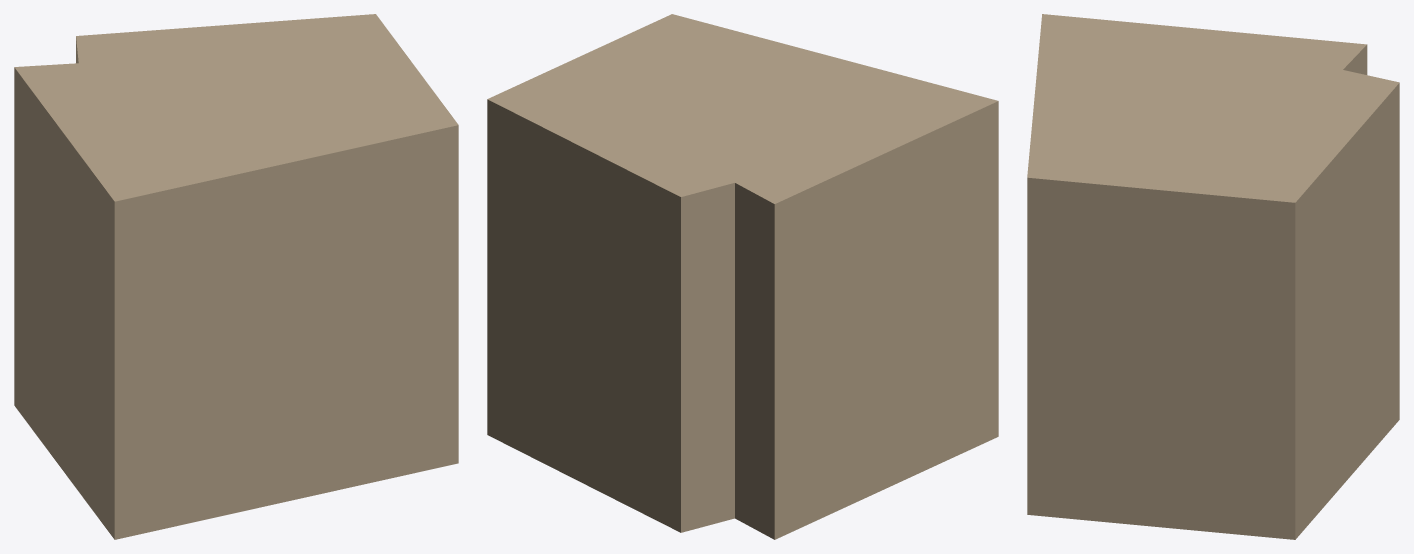
The model's file is bld_98821426.dae.
The picture shows the model from 3 angles, left to right: view 1: azimuth 30°, elevation 25°; view 2: azimuth 150°, elevation 25°; view 3: azimuth 270°, elevation 25°; orthographic projection.
Visible parts, largest first — view 1: The Blue Boar Shop; view 2: The Blue Boar Shop; view 3: The Blue Boar Shop.
Part boxes in pixels (x1,y1,x2,y2): The Blue Boar Shop: (14, 14, 458, 539); The Blue Boar Shop: (487, 14, 998, 539); The Blue Boar Shop: (1027, 14, 1399, 539).
Bounding box in the file's own units: 9.61 × 8.01 × 8.
